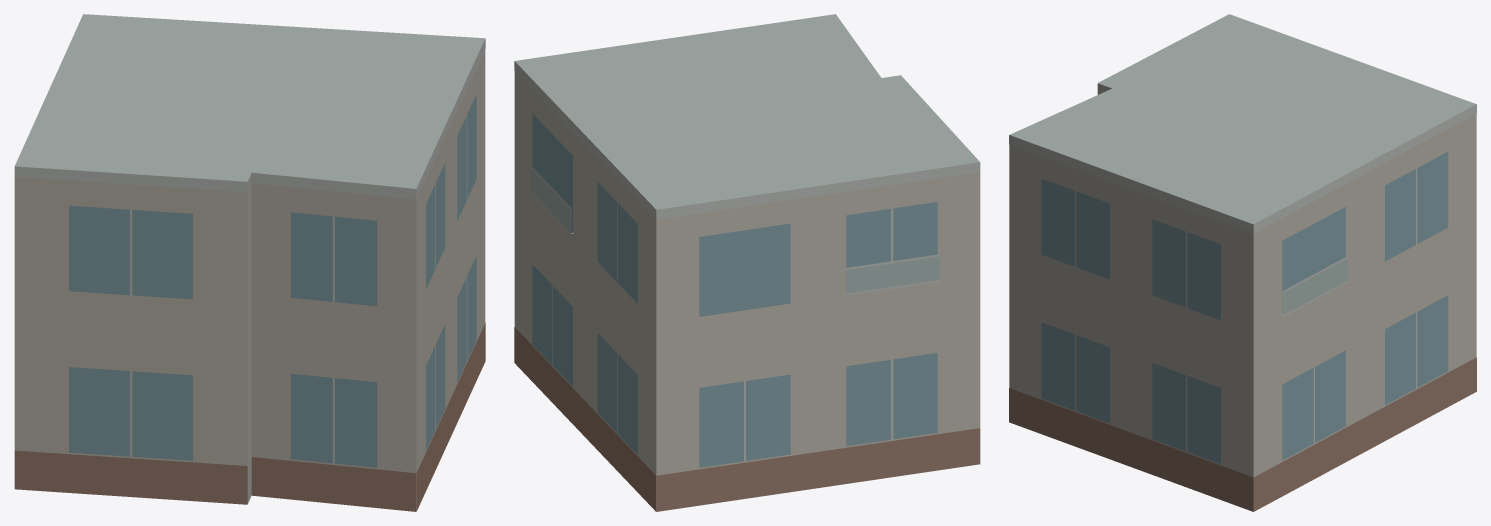
File: survey-upis-32500248.glb
3 views of the same model, side by side, from view 1: azimuth 30°, elevation 25°; view 2: azimuth 150°, elevation 25°; view 3: azimuth 270°, elevation 25° (orthographic). The views are drawn at different scales.
Visible parts, largest first — view 1: survey-upis-32500248.tmp; view 2: survey-upis-32500248.tmp; view 3: survey-upis-32500248.tmp.
Part boxes in pixels (x1,y1,x2,y2): survey-upis-32500248.tmp: [14, 14, 485, 511]; survey-upis-32500248.tmp: [514, 14, 980, 511]; survey-upis-32500248.tmp: [1009, 14, 1476, 511].
Size of the model in its own units: 11.78 by 7.5 by 11.06.
